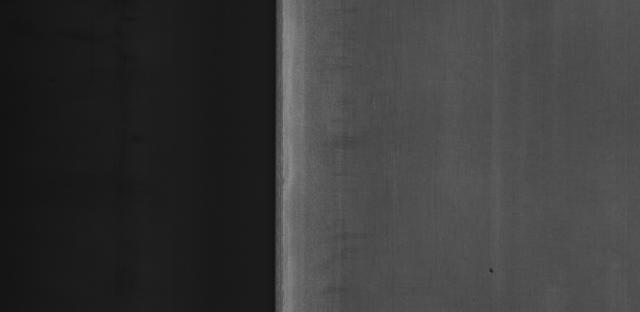inclusion: (478, 257, 503, 281)
